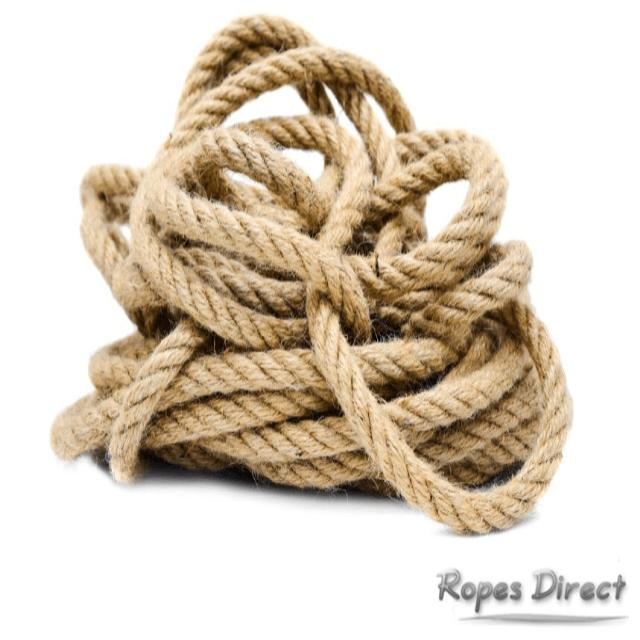Rope: (47, 11, 577, 537)
